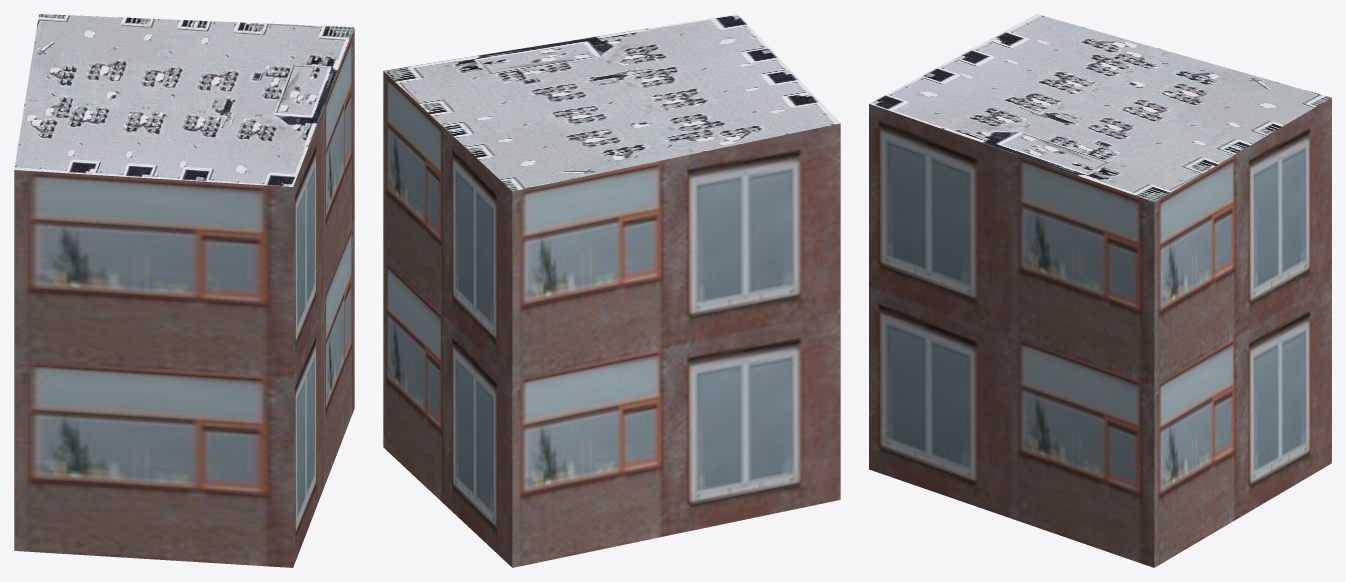
Rendered from ResTex__203.fbx.
The picture shows the model from 3 angles, left to right: view 1: azimuth 30°, elevation 25°; view 2: azimuth 150°, elevation 25°; view 3: azimuth 270°, elevation 25°; orthographic projection. The views are drawn at different scales.
Visible parts, largest first — view 1: CityEngineMaterial_19_m, CityEngineMaterial_15_m; view 2: CityEngineMaterial_19_m, CityEngineMaterial_15_m; view 3: CityEngineMaterial_19_m, CityEngineMaterial_15_m.
Part boxes in pixels (left/top/right/bottom): CityEngineMaterial_19_m: left=14, top=28, right=354, bottom=567; CityEngineMaterial_15_m: left=14, top=14, right=354, bottom=186; CityEngineMaterial_19_m: left=383, top=71, right=840, bottom=567; CityEngineMaterial_15_m: left=383, top=14, right=840, bottom=191; CityEngineMaterial_19_m: left=869, top=98, right=1331, bottom=567; CityEngineMaterial_15_m: left=869, top=14, right=1331, bottom=201.
Size of the model in its own units: 6.62 by 6 by 6.88.
Materials: 2 (2 with a texture image).
